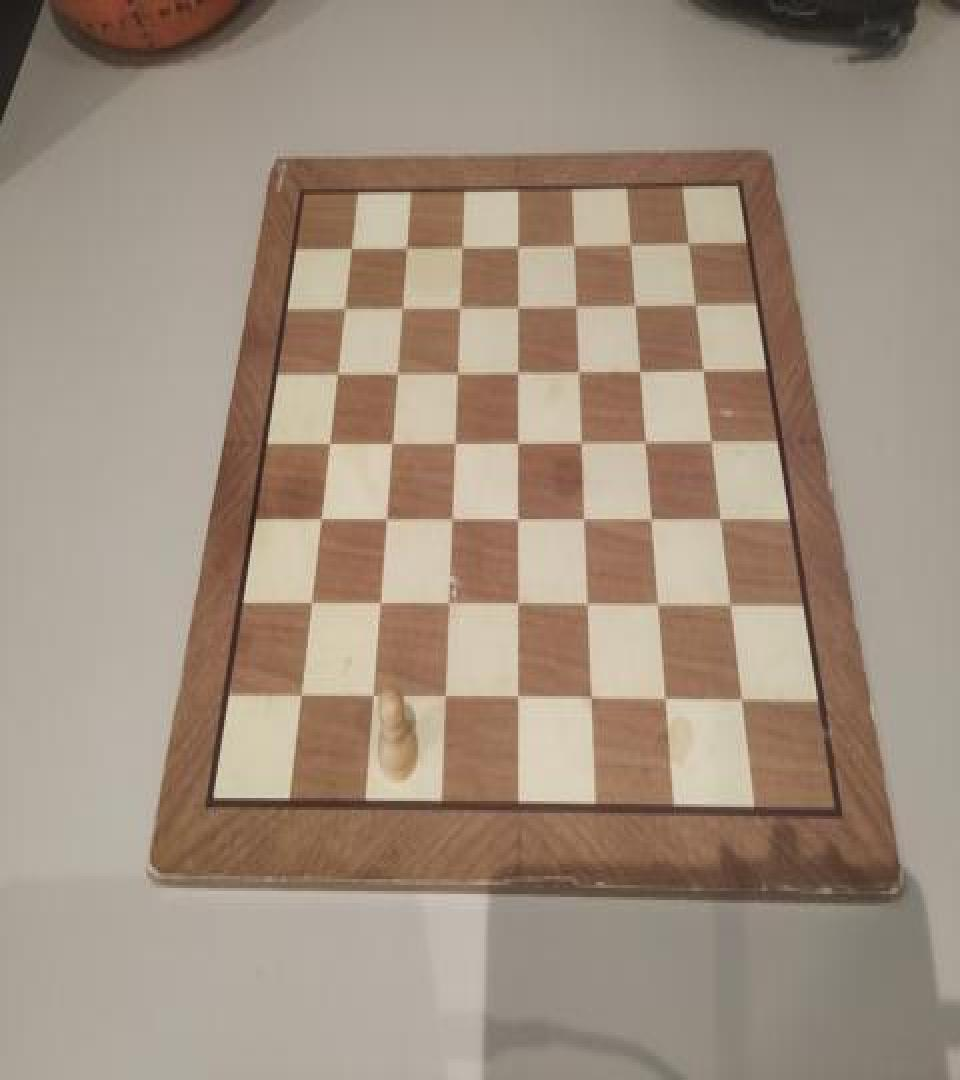xcorner: (308, 499, 328, 530), (374, 499, 394, 530), (565, 223, 585, 254), (623, 223, 643, 254), (681, 223, 701, 254), (288, 678, 308, 708), (361, 680, 381, 710), (434, 681, 454, 711), (583, 684, 603, 714), (658, 687, 678, 717), (299, 584, 319, 614), (368, 585, 388, 615), (508, 588, 528, 618), (579, 590, 599, 620), (651, 591, 671, 621), (723, 591, 743, 621), (441, 501, 461, 531), (508, 502, 528, 532), (576, 502, 596, 532), (644, 504, 664, 534), (713, 504, 733, 534), (317, 422, 337, 452), (380, 423, 400, 453), (444, 423, 464, 453), (508, 423, 528, 453), (573, 424, 593, 454), (638, 424, 658, 454), (704, 424, 724, 454), (325, 351, 345, 381), (385, 351, 405, 381), (446, 351, 466, 381), (508, 351, 528, 381), (570, 351, 590, 381), (632, 351, 652, 381), (695, 352, 715, 382), (332, 286, 352, 316), (390, 285, 410, 315), (449, 285, 469, 315), (508, 285, 528, 315), (567, 285, 587, 315), (627, 285, 647, 315), (688, 285, 708, 315), (339, 225, 359, 255), (395, 225, 415, 255), (451, 225, 471, 255), (508, 225, 528, 255), (508, 683, 528, 712), (734, 689, 754, 718), (438, 587, 458, 616)
